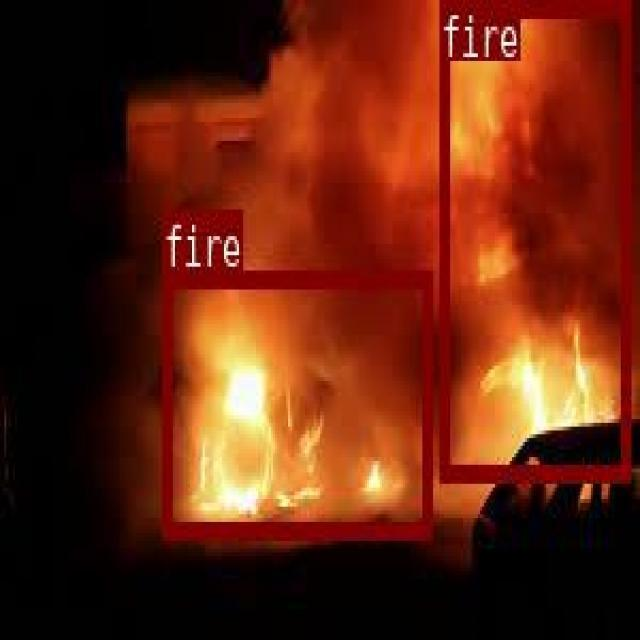fire: (439, 0, 629, 476), (161, 267, 429, 536)
